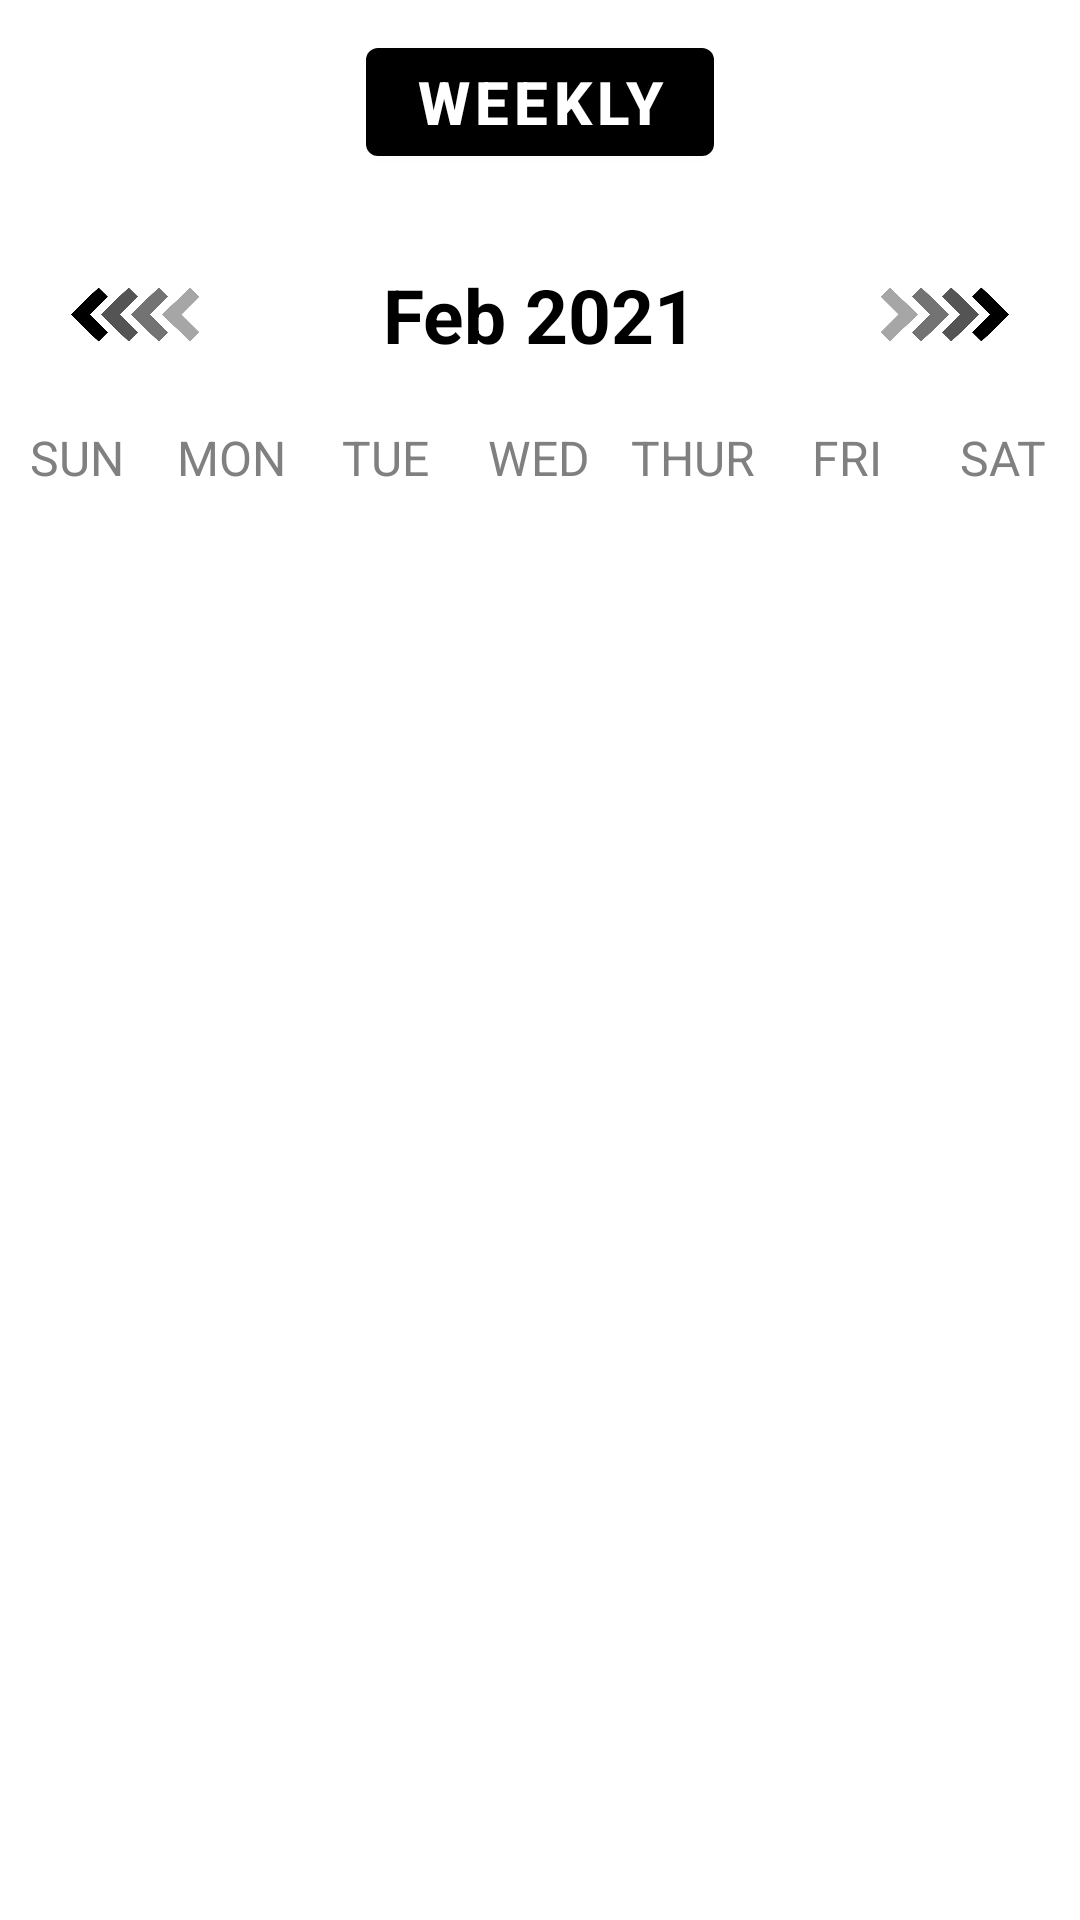

Where icons sit on this 1080px x 1920px app screen, as (x1, y1, x2, y2):
left: (71, 288, 199, 341)
right: (881, 288, 1009, 341)
